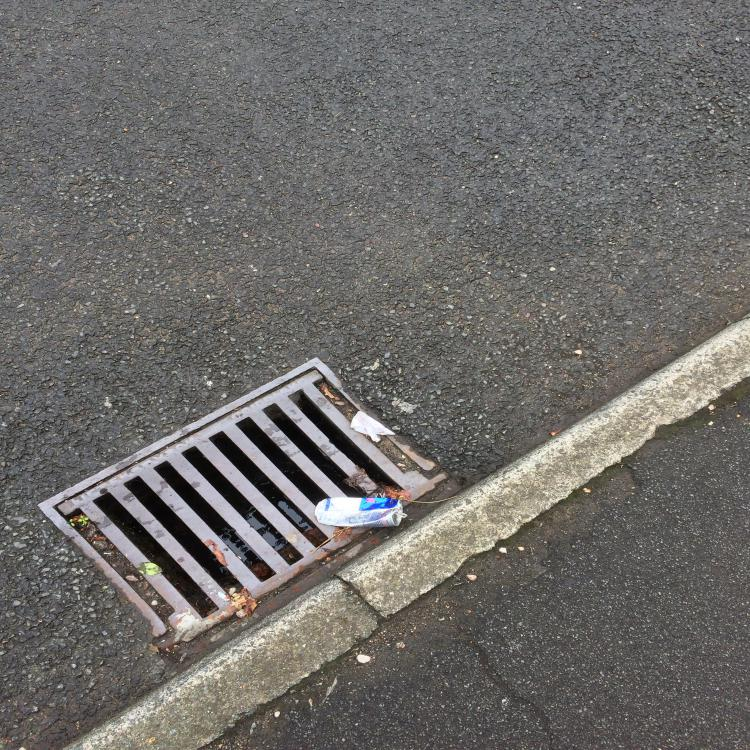Drink can: (315, 497, 408, 528)
Pop tab: (395, 511, 408, 518)
Unlabeled litter: (350, 411, 396, 442)
